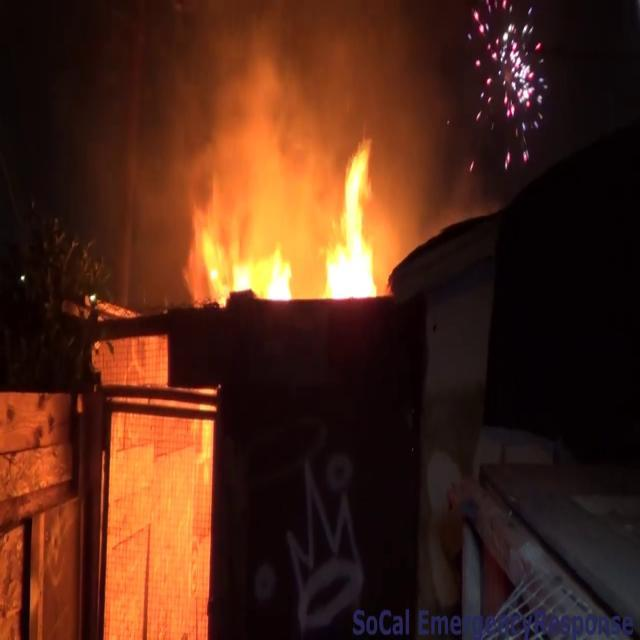Fire: (198, 132, 390, 310)
Smoke: (99, 0, 497, 245)
